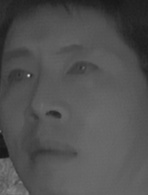eye: (63, 58, 101, 82), (5, 66, 34, 87)
mouth: (22, 136, 78, 169)
